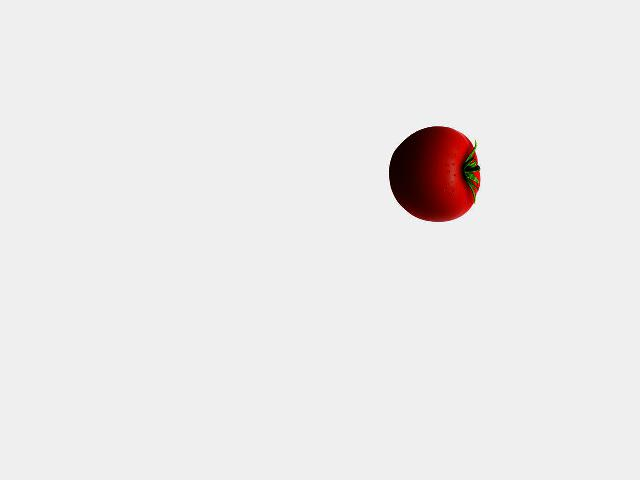tomato: (389, 126, 480, 210)
